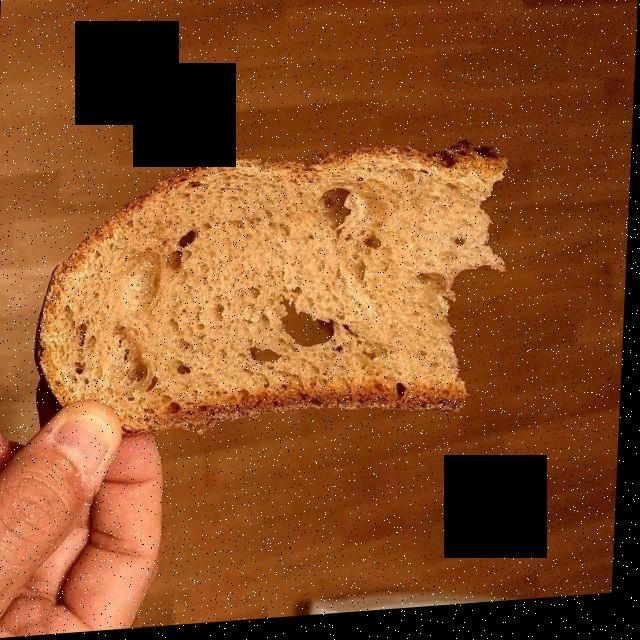bread: (48, 155, 500, 431)
